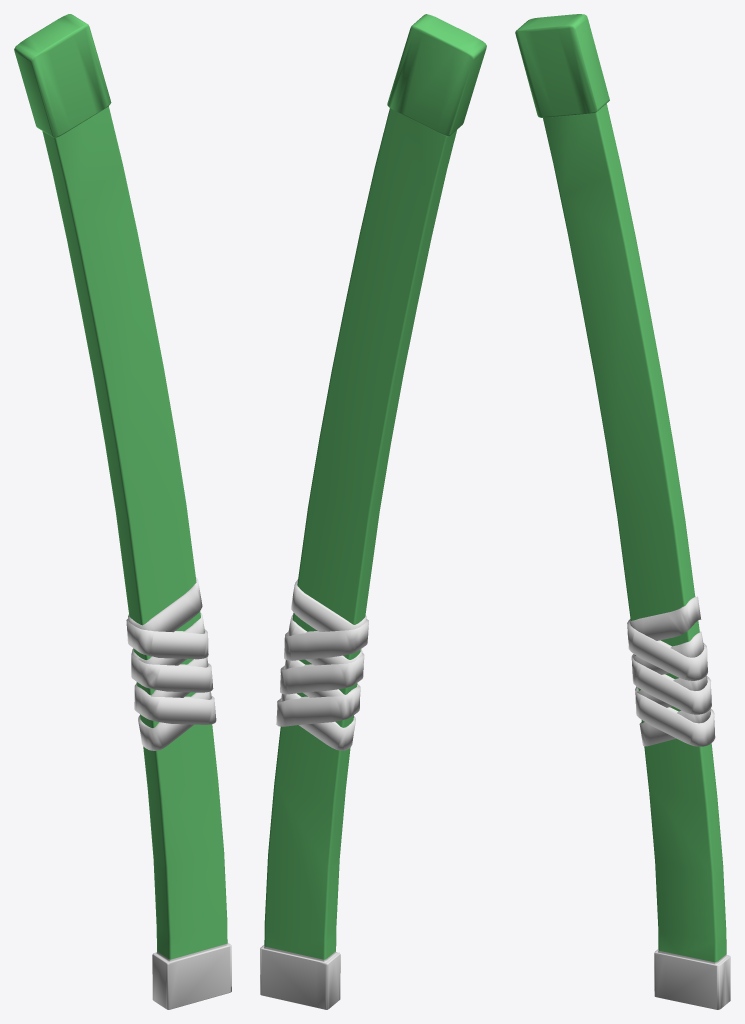
Rendered from SheathTest.fbx.
The picture shows the model from 3 angles, left to right: view 1: azimuth 30°, elevation 25°; view 2: azimuth 150°, elevation 25°; view 3: azimuth 330°, elevation 25°; orthographic projection. The views are drawn at different scales.
Visible parts, largest first — view 1: Circle; view 2: Circle; view 3: Circle.
Part boxes in pixels (x1,y1,x2,y2): Circle: (14,14,231,1009); Circle: (260,14,486,1009); Circle: (515,14,730,1009).
Bounding box in the file's own units: 239 × 1095 × 47.57.
